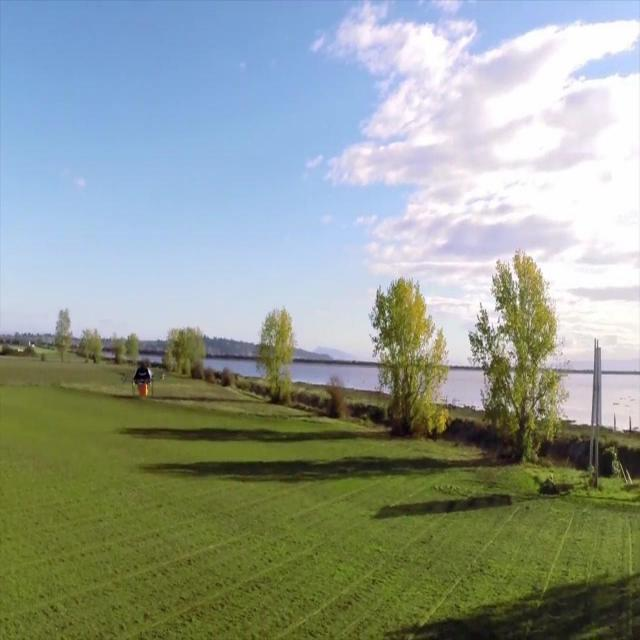UAV: (132, 366, 156, 398)
